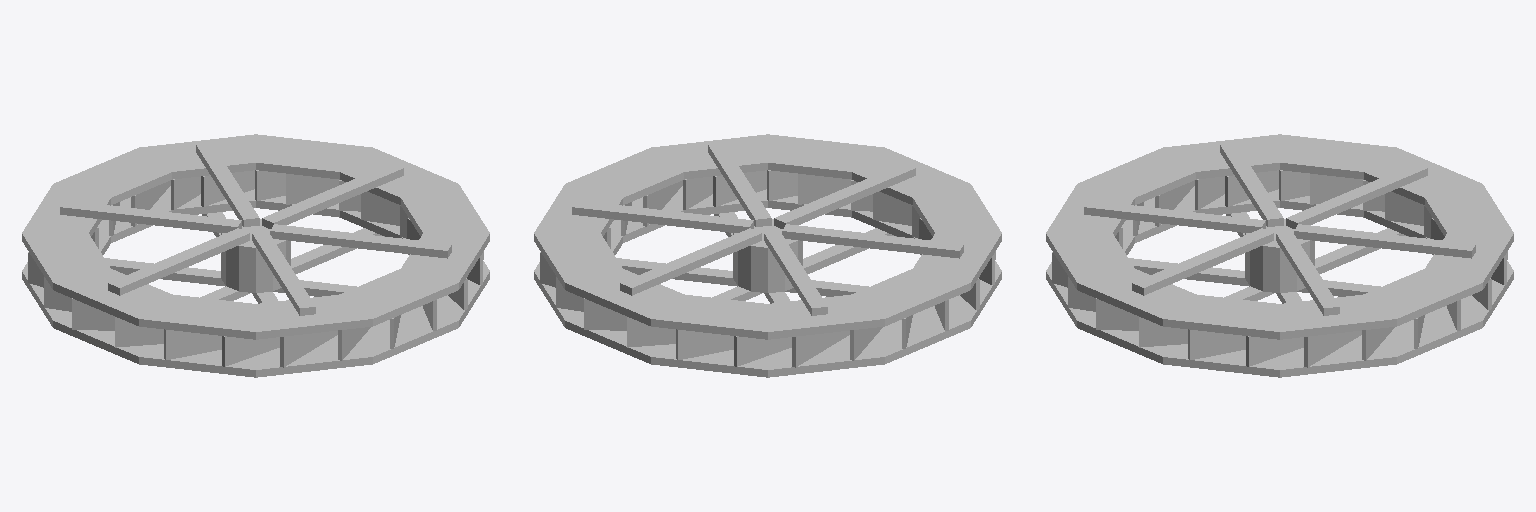
Rendered from waterwheel.obj.
3 renders of one model, left to right at view 1: azimuth 30°, elevation 25°; view 2: azimuth 150°, elevation 25°; view 3: azimuth 270°, elevation 25°, orthographic.
Size of the model in its own units: 7 by 1 by 7.